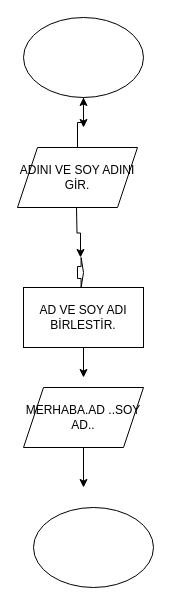
The diagram is 171 pixels wide and 605 high, and some of its shapes have lost their labels. Each missing label, with the box of its shape:
BAŞLA: (22, 16, 144, 98)
BİTİR.: (32, 506, 154, 588)
